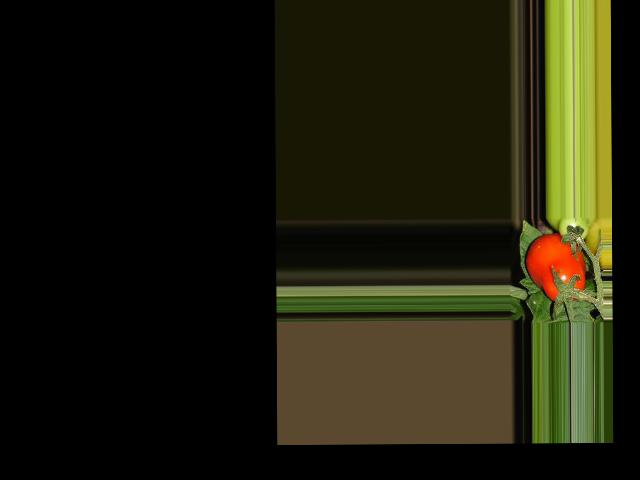tomato: (525, 233, 585, 302)
